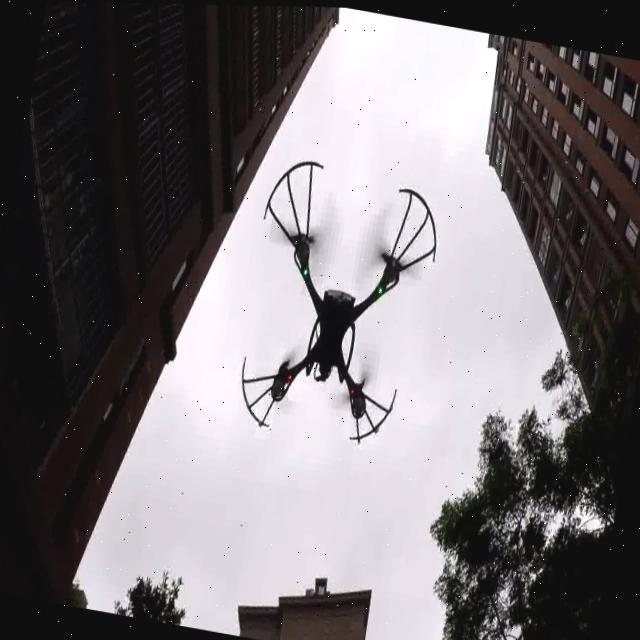drone: (222, 141, 453, 480)
